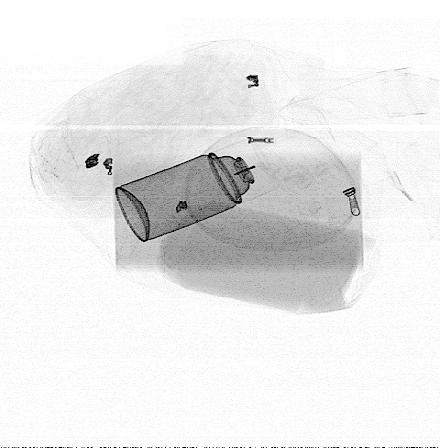Sprayer: (114, 136, 280, 243)
